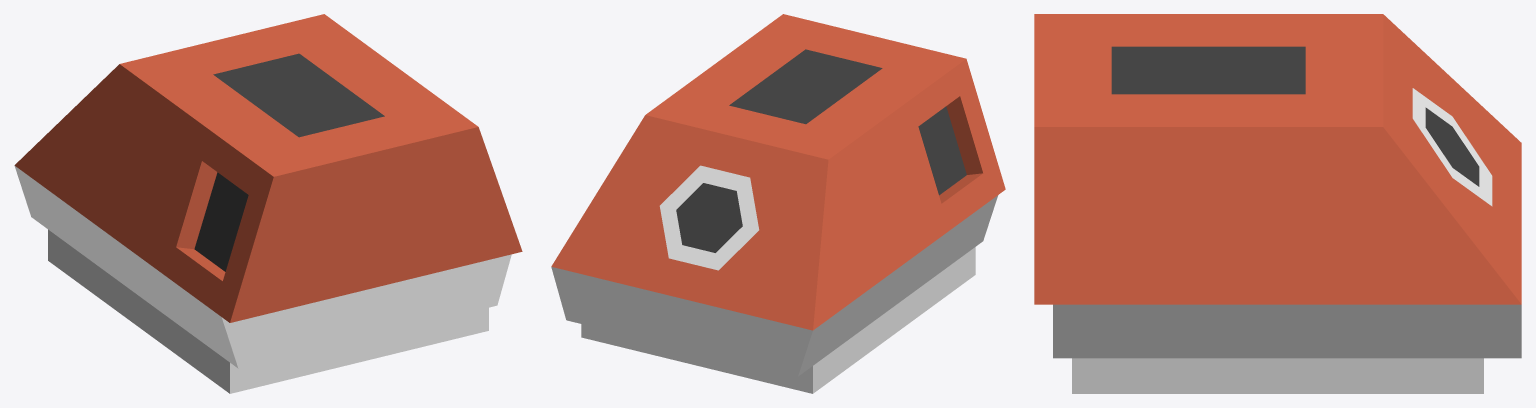
The model's file is robot.fbx.
3 renders of one model, left to right at view 1: azimuth 30°, elevation 25°; view 2: azimuth 150°, elevation 25°; view 3: azimuth 270°, elevation 25°, orthographic. The views are drawn at different scales.
Visible parts, largest first — view 1: robot; view 2: robot; view 3: robot.
Part boxes in pixels (x1,y1,x2,y2): robot: [14, 14, 522, 393]; robot: [551, 14, 1005, 393]; robot: [1034, 14, 1521, 393].
Size of the model in its own units: 2.03 by 1.48 by 2.59.
